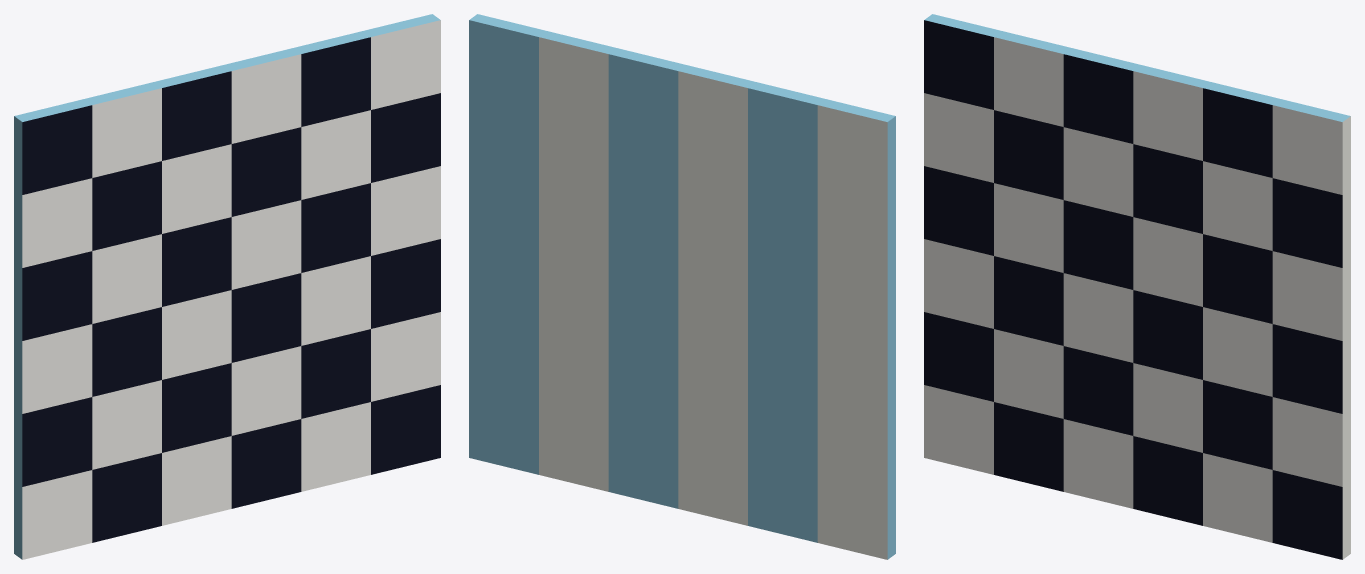
File: BathroomWallToLivingRoom.fbx
3 renders of one model, left to right at view 1: azimuth 30°, elevation 25°; view 2: azimuth 150°, elevation 25°; view 3: azimuth 330°, elevation 25°, orthographic.
Visible parts, largest first — view 1: Cube; view 2: Cube; view 3: Cube.
Boxes of the visible parts, left/top/right/bottom form: Cube: left=14, top=14, right=440, bottom=559; Cube: left=469, top=14, right=895, bottom=559; Cube: left=924, top=14, right=1350, bottom=559.
Bounding box in the file's own units: 2900 × 100 × 2900.
Materials: 1 (1 with a texture image).
